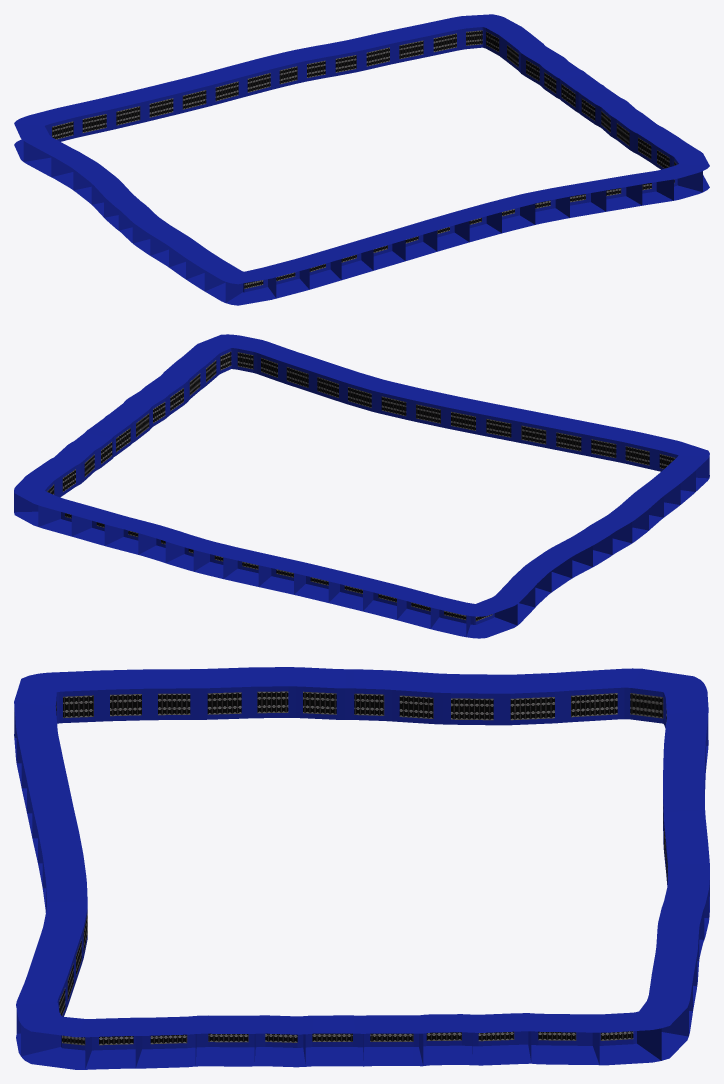
Rendered from Dungeon-Sky-Cells-Single-Layer.fbx.
3 renders of one model, top to bottom at view 1: azimuth 30°, elevation 25°; view 2: azimuth 150°, elevation 25°; view 3: azimuth 270°, elevation 25°, orthographic. The views are drawn at different scales.
Visible parts, largest first — view 1: Dungeon-Sky-Cells-Single-Layer; view 2: Dungeon-Sky-Cells-Single-Layer; view 3: Dungeon-Sky-Cells-Single-Layer.
Part boxes in pixels (left/top/right/bottom): Dungeon-Sky-Cells-Single-Layer: left=14, top=14, right=709, bottom=305; Dungeon-Sky-Cells-Single-Layer: left=14, top=334, right=709, bottom=638; Dungeon-Sky-Cells-Single-Layer: left=14, top=667, right=709, bottom=1069.
Bounding box in the file's own units: 16232 × 672 × 12892.
